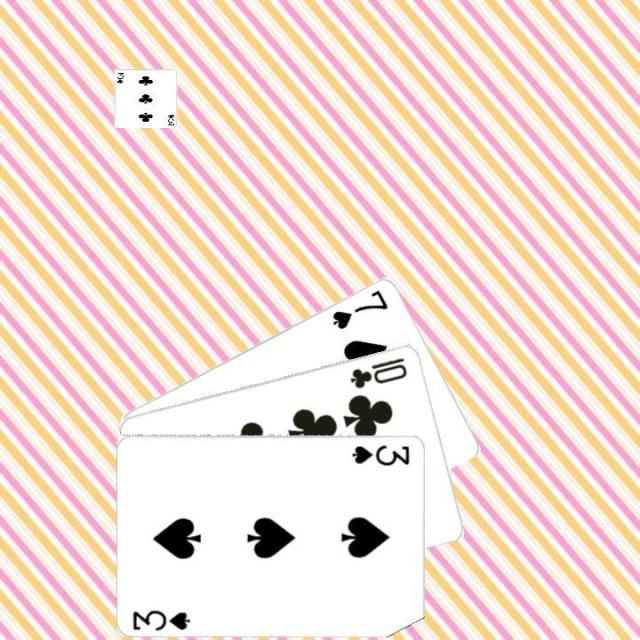10C: (346, 353, 410, 390)
3S: (348, 440, 412, 467), (129, 605, 192, 631)
7S: (328, 285, 390, 331)
